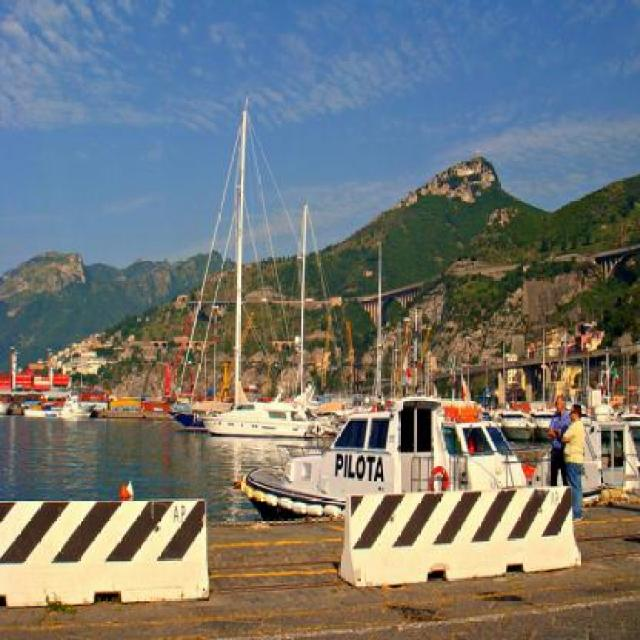ship: (162, 80, 262, 431), (241, 413, 525, 519), (203, 397, 312, 441)
